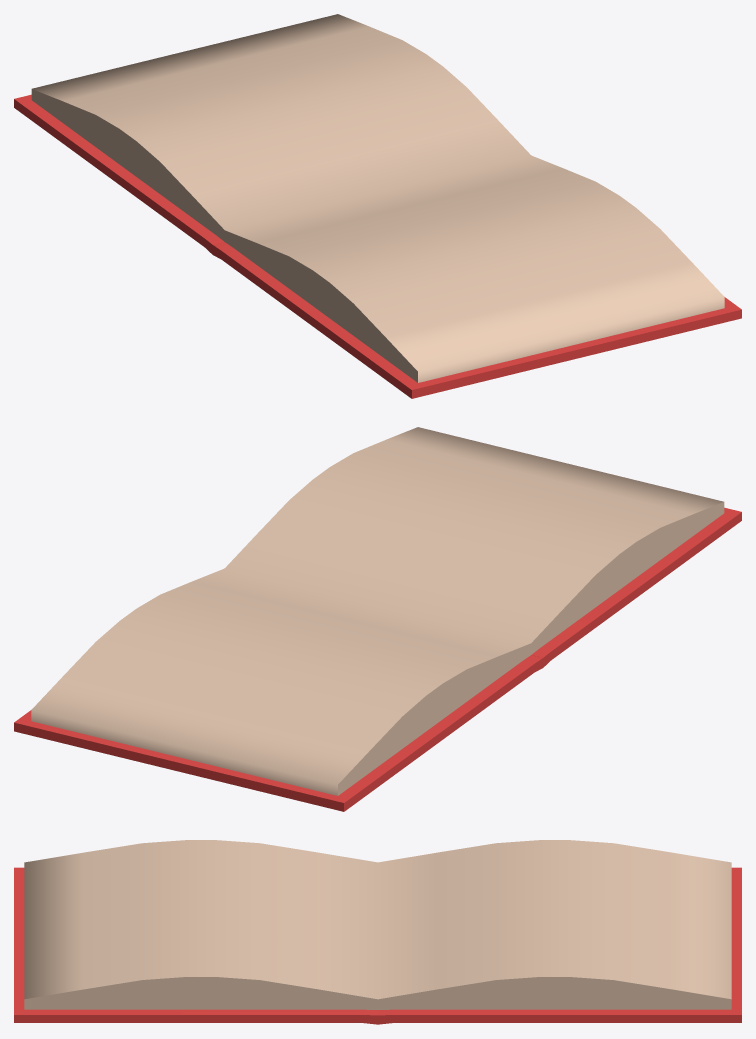
Rendered from SM_BookOpen.fbx.
3 renders of one model, top to bottom at view 1: azimuth 30°, elevation 25°; view 2: azimuth 150°, elevation 25°; view 3: azimuth 270°, elevation 25°, orthographic. The views are drawn at different scales.
Visible parts, largest first — view 1: SM_BookOpen; view 2: SM_BookOpen; view 3: SM_BookOpen.
Boxes of the visible parts, <box> form: SM_BookOpen: <box>14,14,741,398</box>; SM_BookOpen: <box>14,427,741,811</box>; SM_BookOpen: <box>14,840,741,1024</box>.
Size of what is drawn, in the model's own units: 244 by 32.75 by 509.
